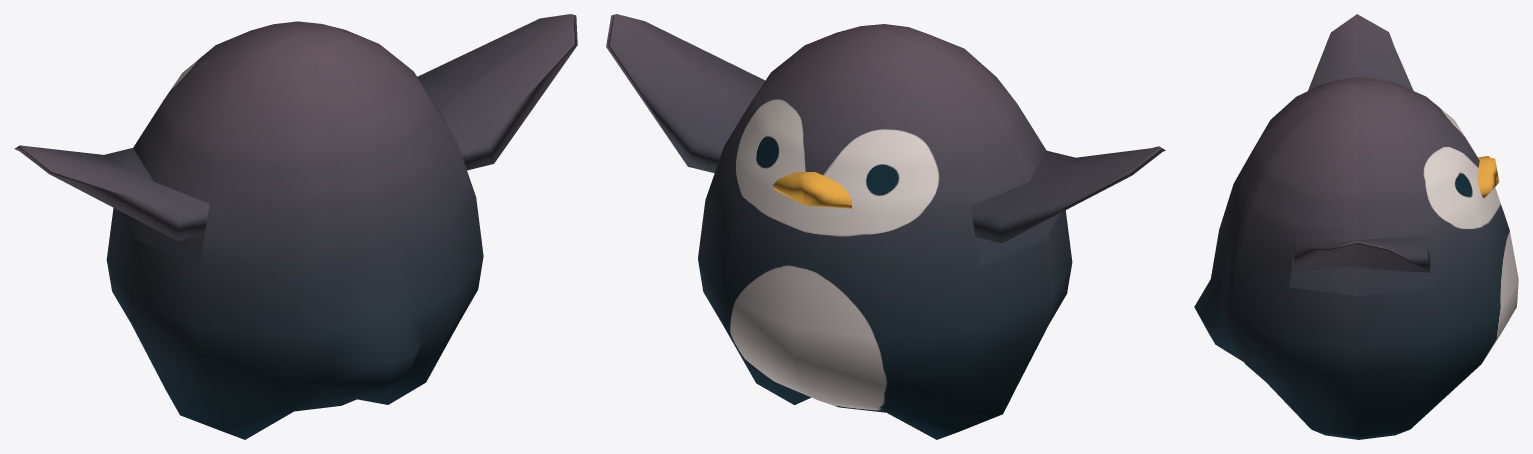
Rendered from testpenguin.fbx.
3 views of the same model, side by side, from view 1: azimuth 30°, elevation 25°; view 2: azimuth 150°, elevation 25°; view 3: azimuth 270°, elevation 25° (orthographic). The views are drawn at different scales.
Visible parts, largest first — view 1: polySurface2; view 2: polySurface2; view 3: polySurface2.
Boxes of the visible parts, x1,y1,x2,y2 form: polySurface2: (14,14,577,439); polySurface2: (606,14,1165,439); polySurface2: (1194,14,1518,439).
Bounding box in the file's own units: 2.59 × 1.66 × 1.54.
Materials: 1 (1 with a texture image).
